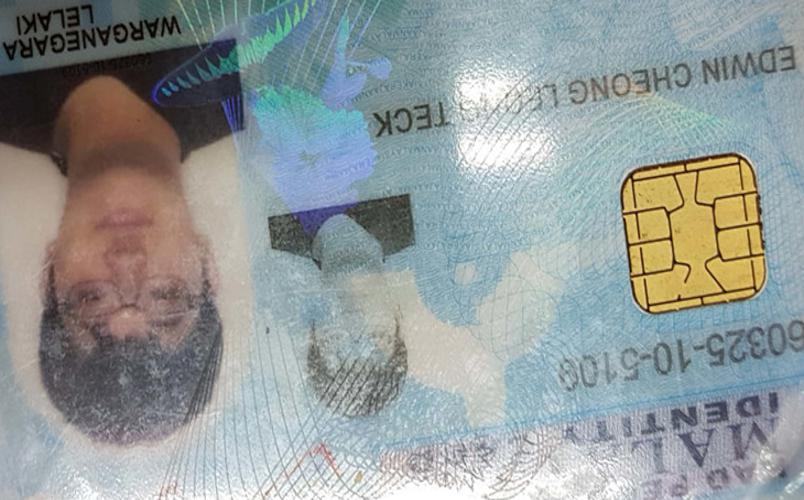hologramB: (236, 7, 372, 203)
